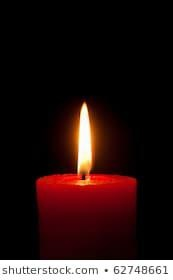fire: (73, 97, 93, 176)
